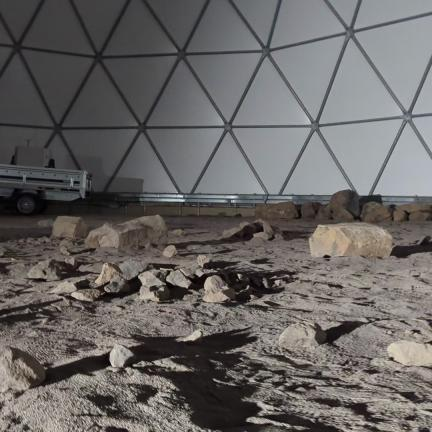Rock: (309, 222, 392, 258), (85, 215, 168, 248), (0, 346, 45, 392), (279, 322, 326, 348), (388, 340, 432, 365), (28, 259, 72, 281), (139, 272, 169, 301), (204, 276, 235, 302), (329, 190, 359, 216), (52, 216, 87, 238), (255, 202, 298, 219), (51, 277, 89, 295), (361, 202, 391, 223), (95, 263, 122, 285), (118, 260, 147, 280), (110, 345, 134, 367), (105, 275, 130, 293), (166, 270, 191, 288), (359, 195, 382, 213), (254, 220, 274, 239), (71, 289, 102, 301), (178, 330, 203, 344), (396, 203, 431, 213), (301, 202, 321, 219), (332, 207, 354, 222), (230, 274, 249, 291), (222, 226, 245, 239), (315, 204, 331, 220), (178, 266, 197, 279), (239, 222, 255, 237), (409, 211, 432, 221), (163, 245, 178, 257), (197, 255, 211, 267), (65, 256, 78, 268), (393, 210, 407, 221), (254, 232, 273, 240), (38, 219, 54, 228), (172, 229, 186, 237), (271, 226, 282, 235), (60, 246, 70, 255), (262, 278, 270, 288), (29, 239, 38, 245), (38, 237, 48, 242), (274, 234, 283, 239), (17, 239, 26, 243), (26, 238, 33, 243), (218, 212, 226, 216), (275, 280, 280, 286), (43, 238, 50, 242), (50, 236, 58, 239), (235, 214, 242, 217)
